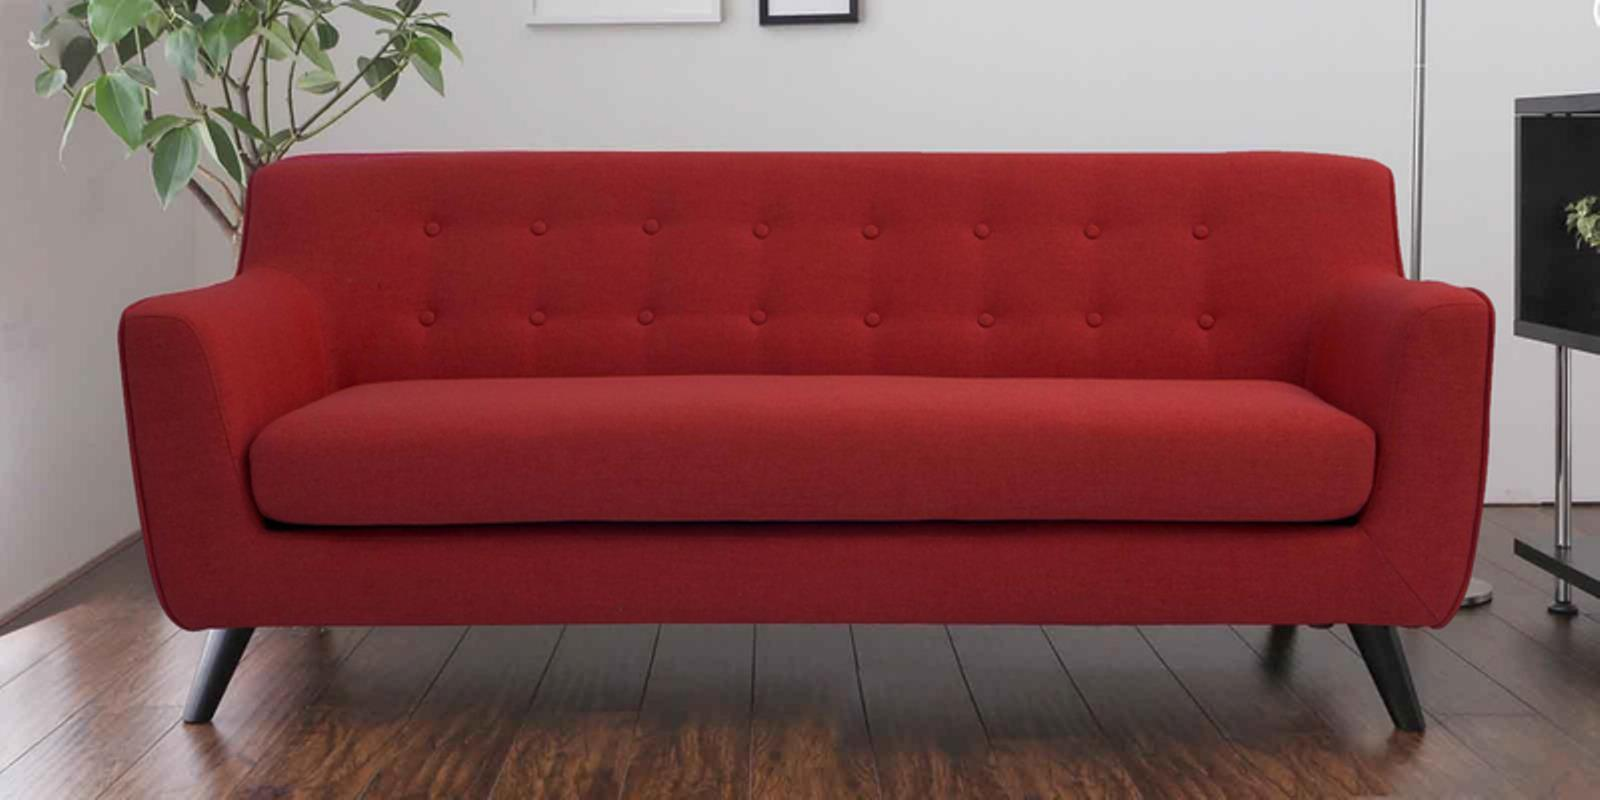Bogota Three Seater Sofa in Red Colour by CasaCraft: (124, 138, 1499, 757)
